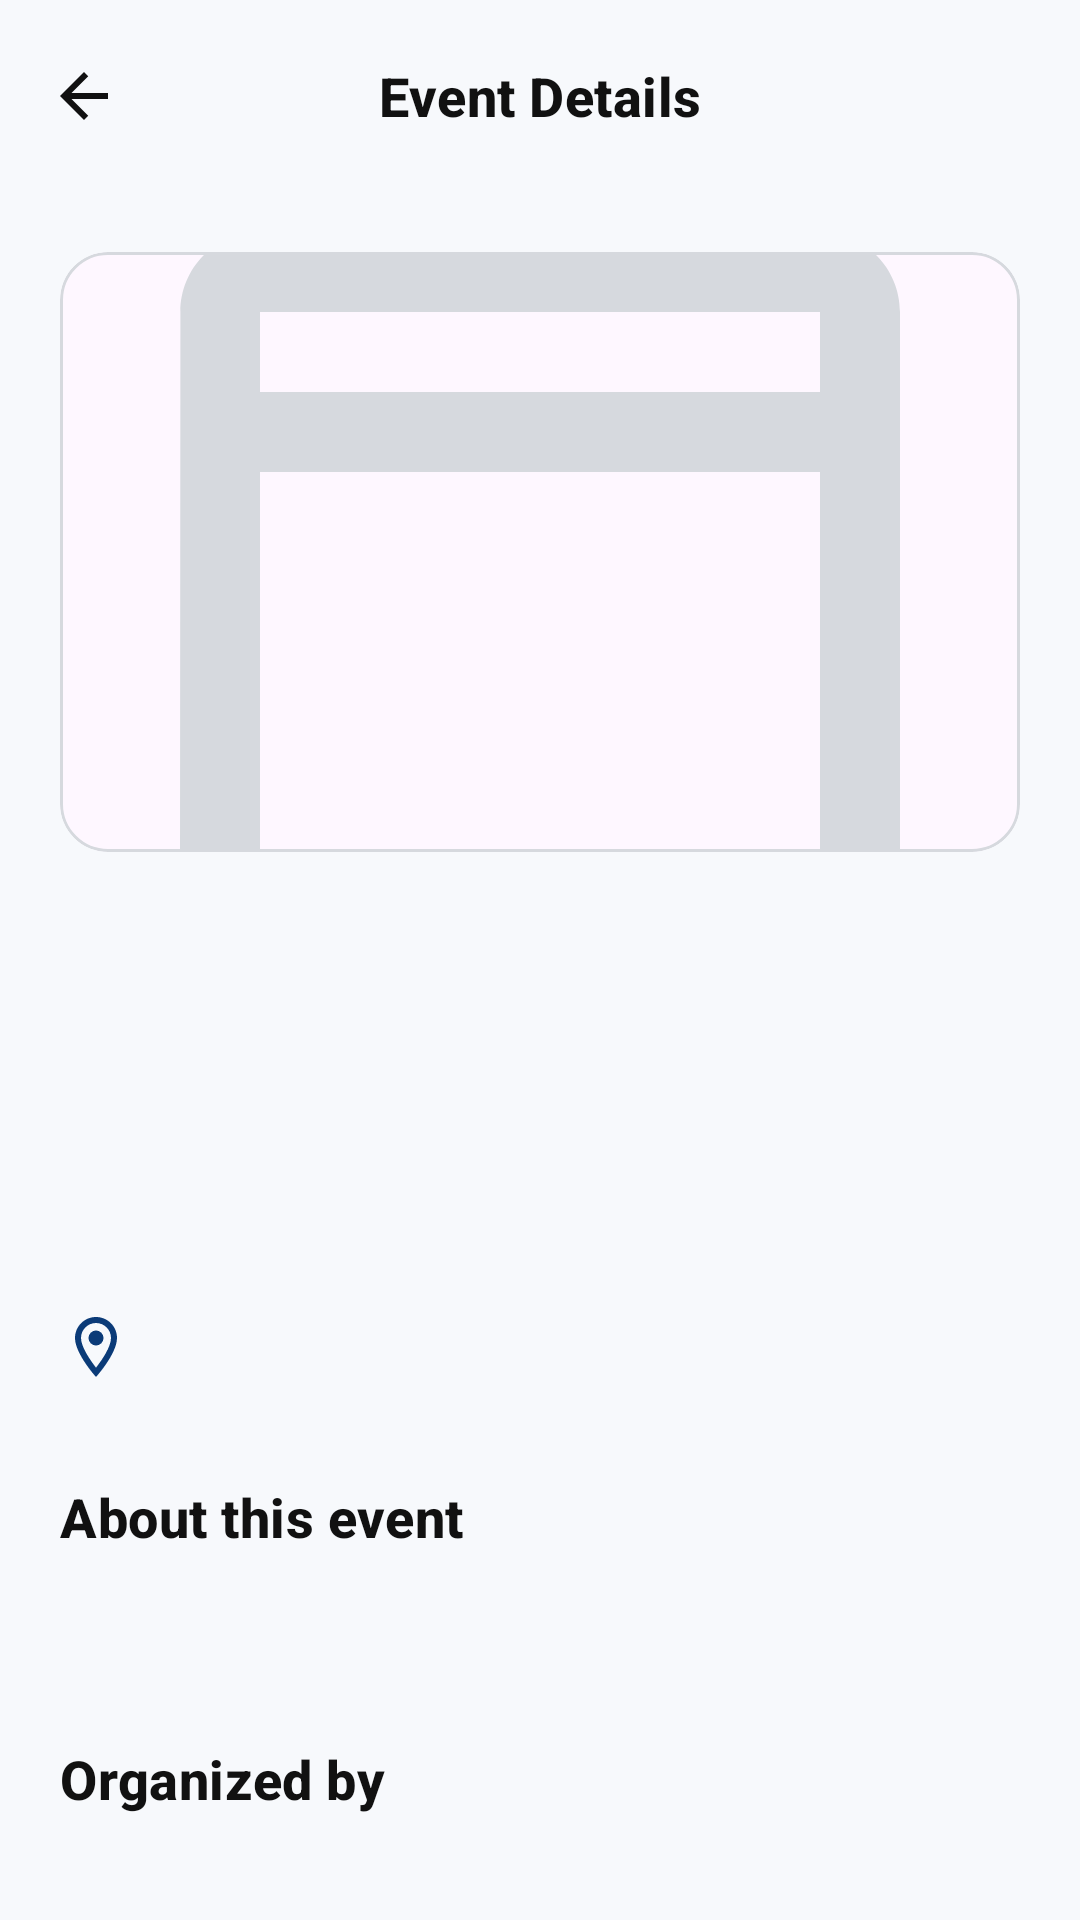

Icons on this 1080×1920 Android screen, each with the point to tap as [x,y]:
location: [96,1347]
